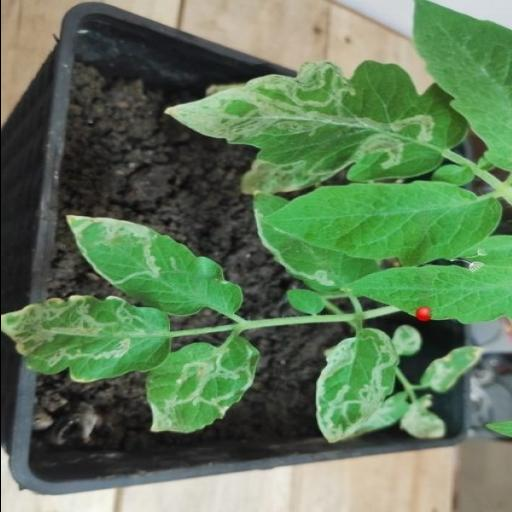Healthy: (264, 182, 506, 268)
Leaf Miner: (160, 62, 472, 180), (64, 214, 242, 316), (0, 293, 172, 383), (140, 336, 261, 434), (312, 328, 400, 444)
